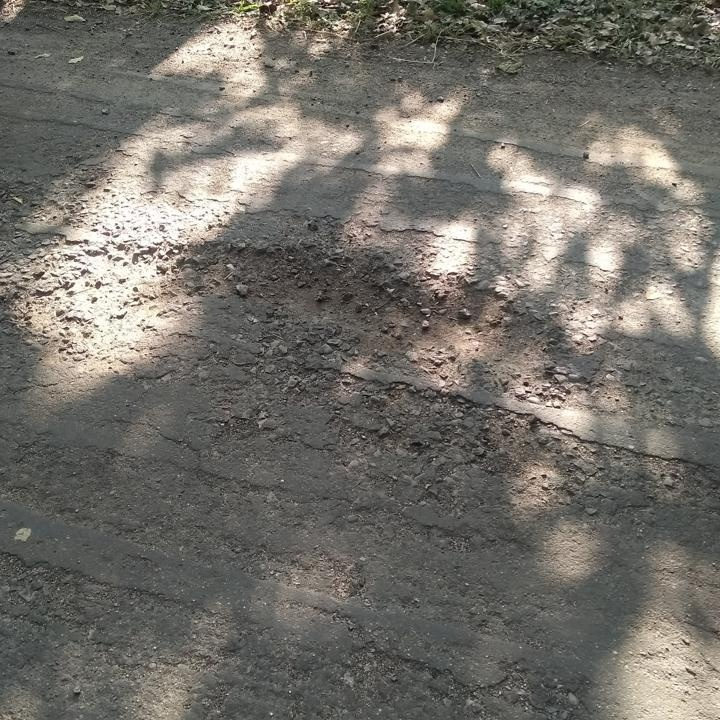pothole: (145, 234, 564, 392)
